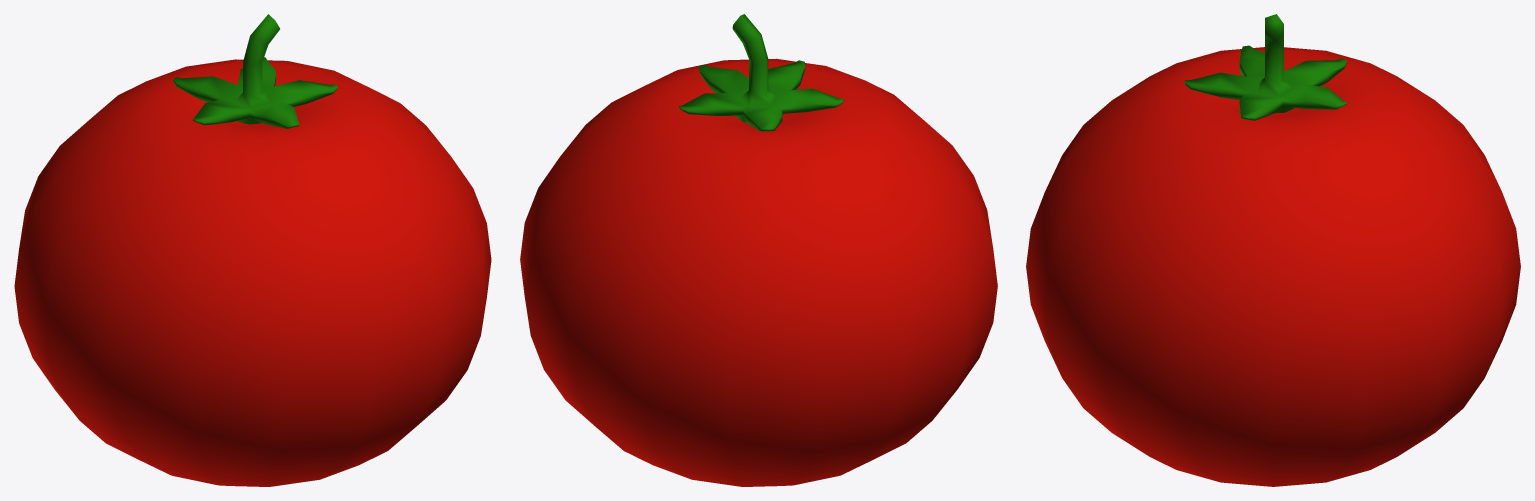
The model's file is tomato.obj.
3 renders of one model, left to right at view 1: azimuth 30°, elevation 25°; view 2: azimuth 150°, elevation 25°; view 3: azimuth 270°, elevation 25°, orthographic. The views are drawn at different scales.
Visible parts, largest first — view 1: tomato; view 2: tomato; view 3: tomato.
Part boxes in pixels (bbox=[...]): tomato: bbox=[14, 14, 491, 486]; tomato: bbox=[520, 14, 997, 486]; tomato: bbox=[1026, 14, 1520, 486].
Size of the model in its own units: 2 by 2.03 by 2.
